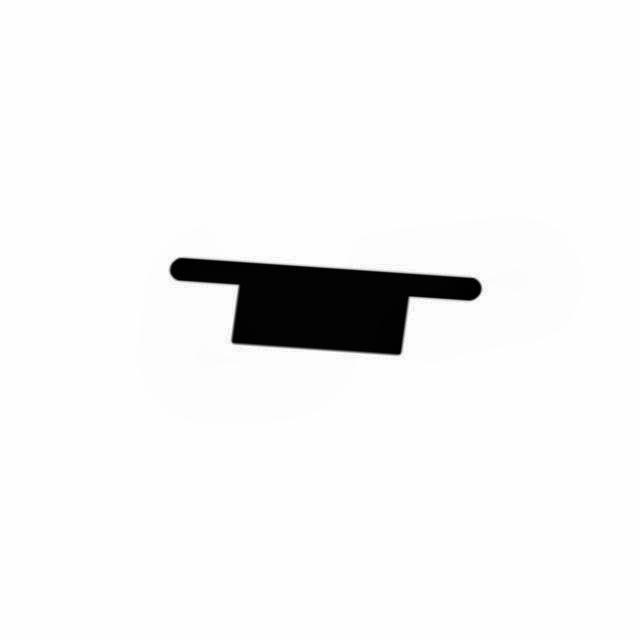Full-rest: (132, 244, 508, 376)
